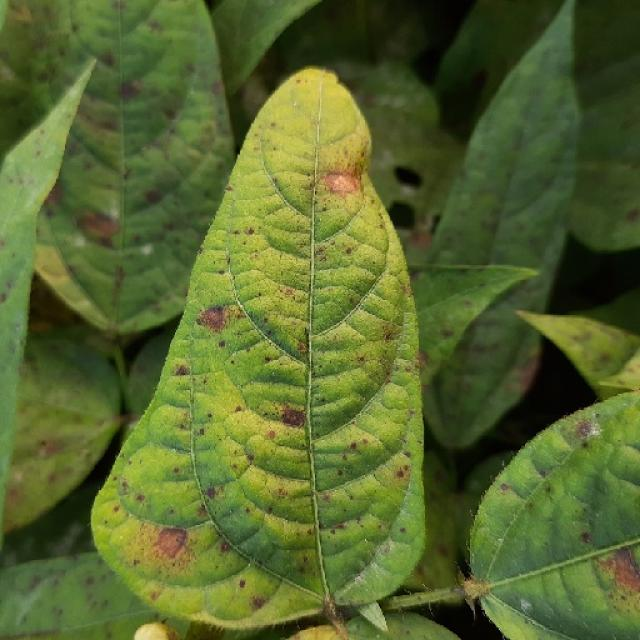Anthracnose: (311, 166, 369, 234), (595, 547, 637, 601), (196, 300, 236, 344), (78, 209, 120, 244), (289, 65, 339, 94), (196, 303, 244, 333), (153, 526, 187, 560), (320, 169, 359, 195), (460, 575, 487, 608), (573, 418, 599, 442), (6, 167, 34, 189), (280, 407, 304, 428), (119, 80, 140, 100), (112, 264, 126, 294), (143, 188, 162, 204), (251, 595, 266, 610), (174, 363, 190, 377), (100, 53, 116, 67), (625, 208, 638, 221), (580, 531, 592, 544), (220, 540, 232, 553), (206, 486, 217, 499), (499, 483, 511, 494), (441, 328, 454, 338), (297, 342, 307, 353), (0, 291, 8, 304), (383, 331, 393, 341), (396, 469, 405, 478), (267, 430, 276, 439), (349, 441, 358, 450), (246, 227, 255, 235), (581, 440, 589, 449), (246, 453, 254, 462), (238, 579, 246, 588), (0, 239, 6, 249), (225, 185, 233, 192), (198, 428, 205, 436), (358, 356, 365, 363), (399, 527, 406, 534), (295, 78, 301, 84)
Blackgram: (92, 69, 424, 628)
